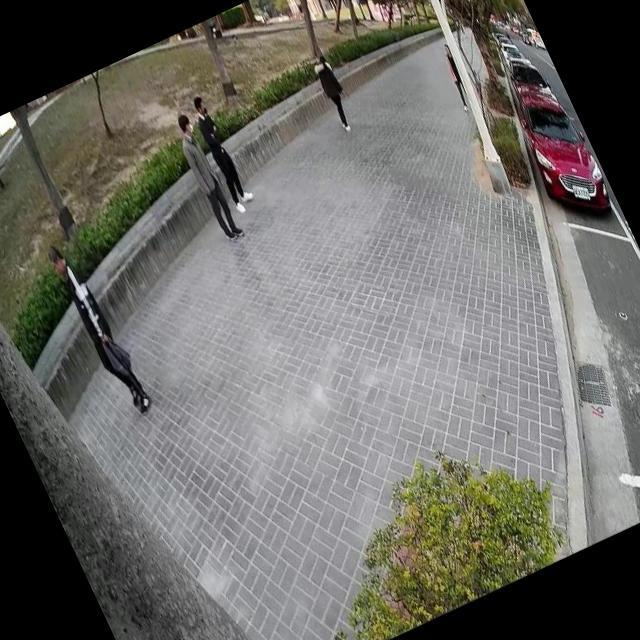person: (40, 231, 159, 427), (162, 105, 248, 248), (182, 88, 260, 216), (304, 49, 363, 138), (432, 40, 478, 116)
